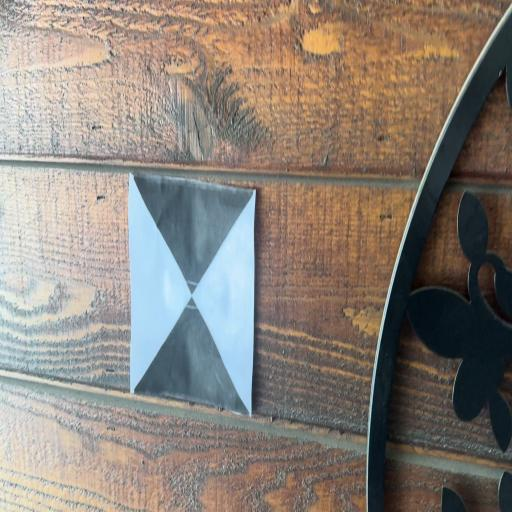target: (130, 173, 257, 416)
